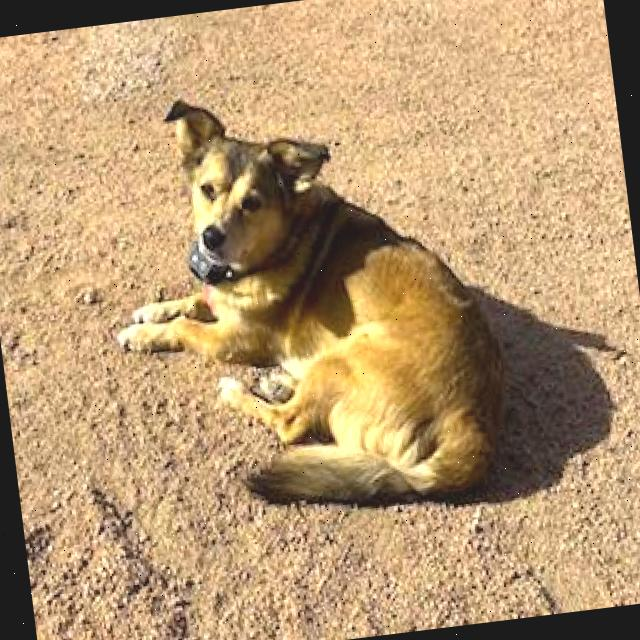corgi_dog: (149, 72, 351, 286)
